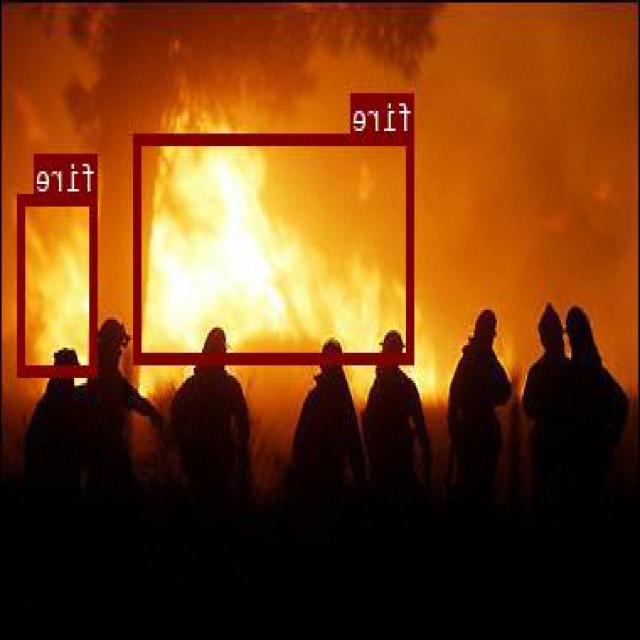fire: (137, 133, 416, 361), (20, 194, 98, 374)
